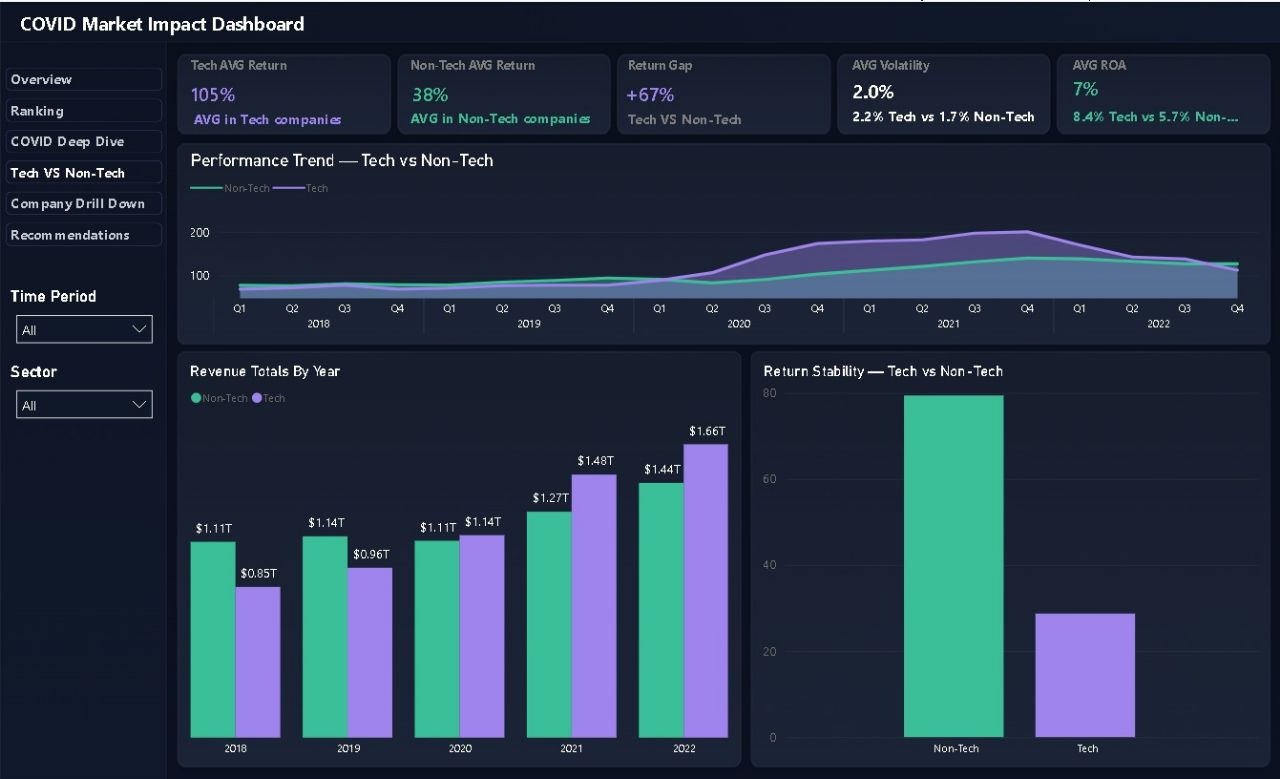

Layout of this report page (visuals, bound fields, positions):
{"tool":"powerbi","page":{"name":"Tech VS Non-Tech","canvas":[1280,780],"ordinal":3},"visuals":[{"type":"textbox","box":[18,0,304.3,42.2],"z":0},{"type":"pageNavigator","box":[6.3,65.5,156.2,178.7],"z":1000},{"type":"cardVisual","fields":{"Data":["Key_Measures.Tech Avg Return"]},"box":[162.5,45.8,220,95.2],"z":2000},{"type":"textbox","box":[185.8,45.8,184,32.3],"z":3000},{"type":"cardVisual","fields":{"Data":["Key_Measures.NonTech Avg Return"]},"box":[382.4,45.8,220,95.2],"z":4000},{"type":"textbox","box":[405.8,45.8,184,32.3],"z":5000},{"type":"cardVisual","fields":{"Data":["Key_Measures.Return Gap"]},"box":[596.1,45.8,220,95.2],"z":6000},{"type":"textbox","box":[622.1,45.8,184,32.3],"z":7000},{"type":"textbox","box":[188.5,99.7,184,32.3],"z":8000},{"type":"textbox","box":[405.6,99.2,234.4,32.1],"z":9000},{"type":"textbox","box":[622.1,99.7,184,32.3],"z":10000},{"type":"cardVisual","fields":{"Data":["Key_Measures.Volatility","Key_Measures.Volatility Display"]},"box":[822.8,52.5,253.8,94.3],"z":11000},{"type":"textbox","box":[846.6,45.8,184,32.3],"z":12000},{"type":"cardVisual","fields":{"Data":["Key_Measures.ROA","Key_Measures.ROA Footer"]},"box":[1042.6,52.5,237.3,94.3],"z":13000},{"type":"textbox","box":[1066.5,45.8,184,32.3],"z":14000},{"type":"areaChart","title":"Performance Trend — Tech vs Non-Tech","fields":{"Category":["dcalendar.Year","dcalendar.Quarter"],"Y":["Key_Measures.Normalized Index"],"Series":["dimCompany.Is Tech"]},"box":[185.8,147.2,1076.4,193.9],"z":15000},{"type":"clusteredColumnChart","title":"Revenue Totals By Year","fields":{"Category":["dcalendar.Year"],"Y":["Key_Measures.Total Revenue"],"Series":["dimCompany.Is Tech"]},"box":[179.9,359.9,552.4,402.6],"z":16000},{"type":"clusteredColumnChart","title":"Return Stability — Tech vs Non-Tech","fields":{"Y":["Key_Measures.Return Stability"],"Category":["dimCompany.Is Tech"]},"box":[757.6,359.9,504.8,402.6],"z":17000},{"type":"slicer","title":"Time Period","fields":{"Values":["dcalendar.Year","dcalendar.Month"]},"box":[6.3,284.6,156.2,56.6],"z":18000},{"type":"slicer","title":"Sector","fields":{"Values":["dimCompany.Is Tech"]},"box":[6.3,360,156.2,56.6],"z":19000}]}

Visuals, with their boxes in screenshot pixels (x1, y1, x2, y2), scaled from the page's 1280x780 canvas onto the 1280x779 screenshot:
textbox: 18, 0, 322, 42
pageNavigator: 6, 65, 162, 244
cardVisual - Key_Measures.Tech Avg Return: 162, 46, 382, 141
textbox: 186, 46, 370, 78
cardVisual - Key_Measures.NonTech Avg Return: 382, 46, 602, 141
textbox: 406, 46, 590, 78
cardVisual - Key_Measures.Return Gap: 596, 46, 816, 141
textbox: 622, 46, 806, 78
textbox: 188, 100, 372, 132
textbox: 406, 99, 640, 131
textbox: 622, 100, 806, 132
cardVisual - Key_Measures.Volatility x Key_Measures.Volatility Display: 823, 52, 1077, 147
textbox: 847, 46, 1031, 78
cardVisual - Key_Measures.ROA x Key_Measures.ROA Footer: 1043, 52, 1279, 147
textbox: 1066, 46, 1250, 78
"Performance Trend — Tech vs Non-Tech" areaChart: 186, 147, 1262, 341
"Revenue Totals By Year" clusteredColumnChart: 180, 359, 732, 762
"Return Stability — Tech vs Non-Tech" clusteredColumnChart: 758, 359, 1262, 762
"Time Period" slicer: 6, 284, 162, 341
"Sector" slicer: 6, 360, 162, 416
